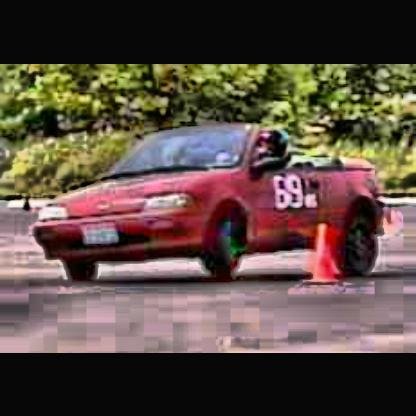Geo Metro Convertible 1993: (35, 123, 402, 294)
